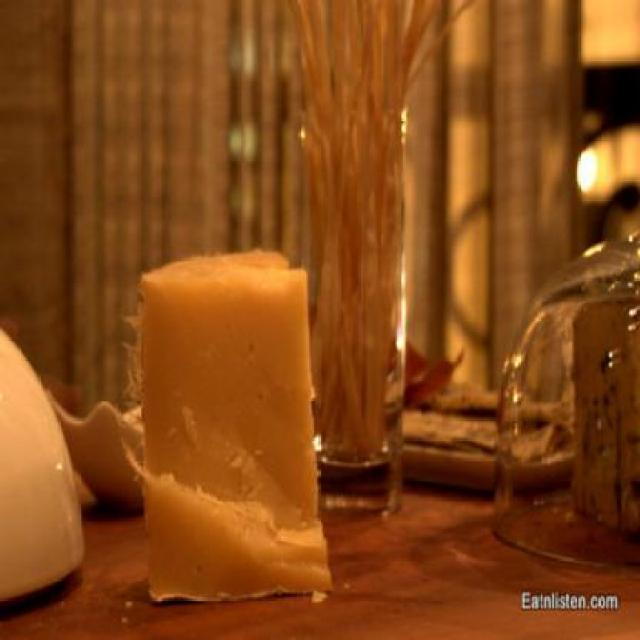Cheese: (130, 240, 339, 602)
